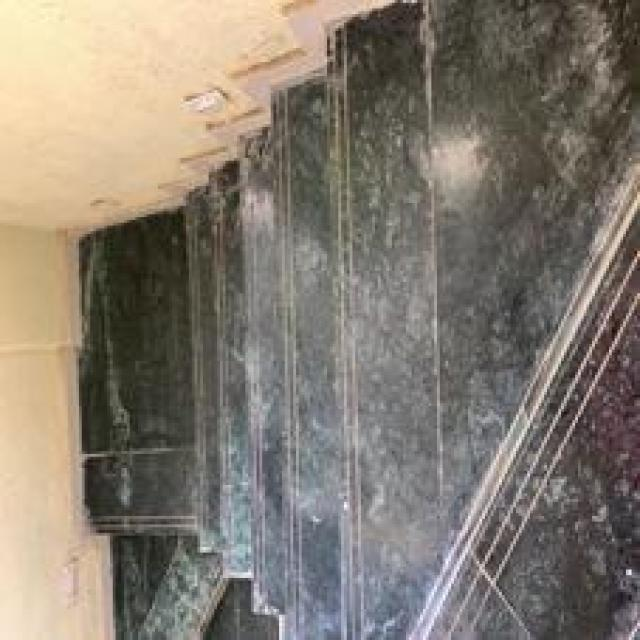downstair: (275, 46, 509, 413)
